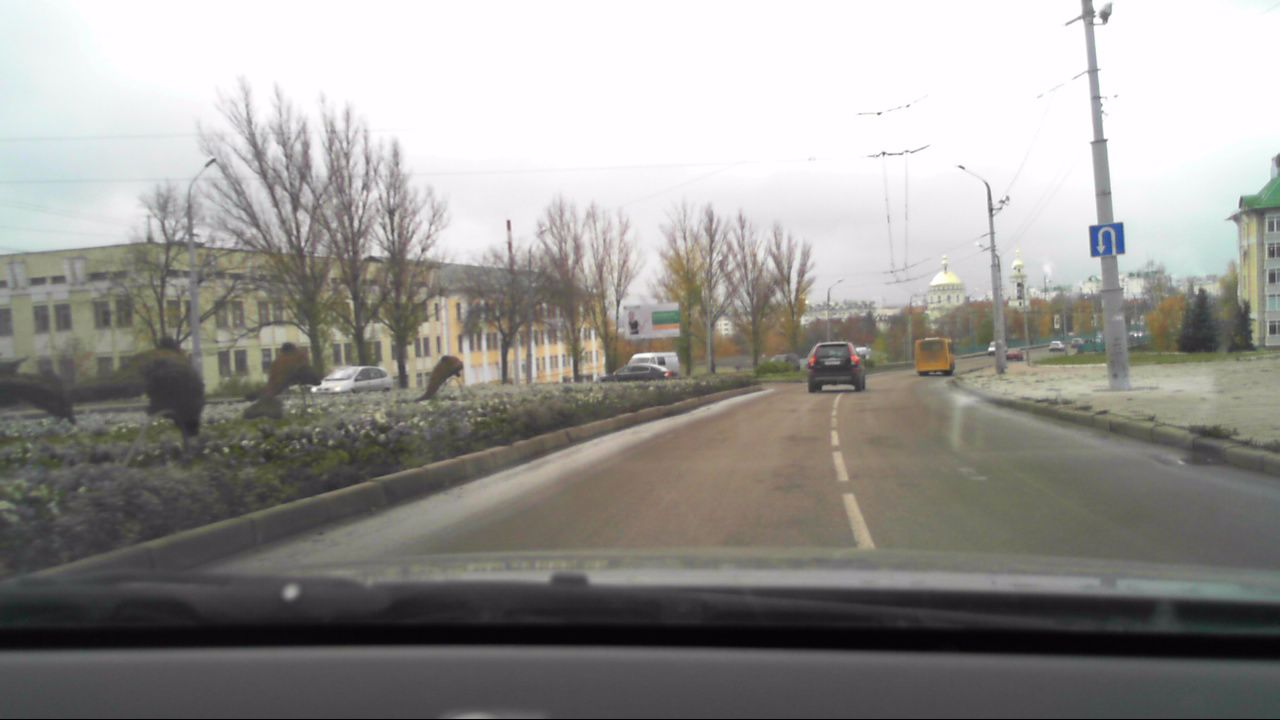U-turn: (1090, 222, 1124, 257)
